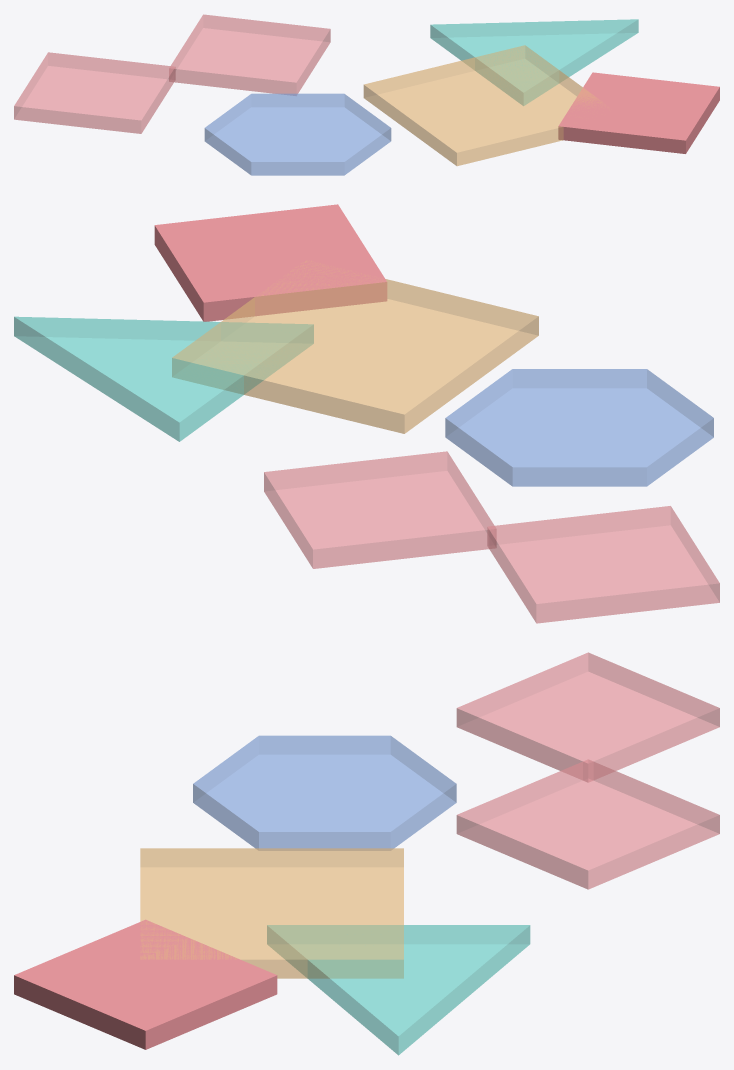
Rendered from elicottero_step6.glb.
3 views of the same model, one above another, from view 1: azimuth 30°, elevation 25°; view 2: azimuth 150°, elevation 25°; view 3: azimuth 270°, elevation 25° (orthographic). The views are drawn at different scales.
Visible parts, largest first — view 1: quadrato_piccolo, esagono, triangolo_isoscele_piccolo, rombo, rombo.002, rombo.001; view 2: quadrato_piccolo, esagono, triangolo_isoscele_piccolo, rombo.002, rombo.001, rombo; view 3: quadrato_piccolo, esagono, rombo.001, rombo.002, rombo, triangolo_isoscele_piccolo.
Boxes of the visible parts, x1,y1,x2,y2 form: quadrato_piccolo: (363, 45, 605, 166); esagono: (204, 93, 391, 175); triangolo_isoscele_piccolo: (430, 19, 638, 105); rombo: (14, 52, 175, 133); rombo.002: (558, 72, 719, 153); rombo.001: (169, 14, 330, 95); quadrato_piccolo: (172, 260, 538, 433); esagono: (445, 369, 713, 486); triangolo_isoscele_piccolo: (14, 316, 313, 441); rombo.002: (154, 204, 387, 321); rombo.001: (264, 451, 496, 568); rombo: (487, 506, 719, 623); quadrato_piccolo: (140, 848, 403, 978); esagono: (193, 735, 456, 850); rombo.001: (456, 759, 719, 889); rombo.002: (14, 919, 277, 1049); rombo: (456, 652, 719, 782); triangolo_isoscele_piccolo: (267, 925, 530, 1055).
Size of the model in its own units: 3.45 by 0.08 by 2.68.
